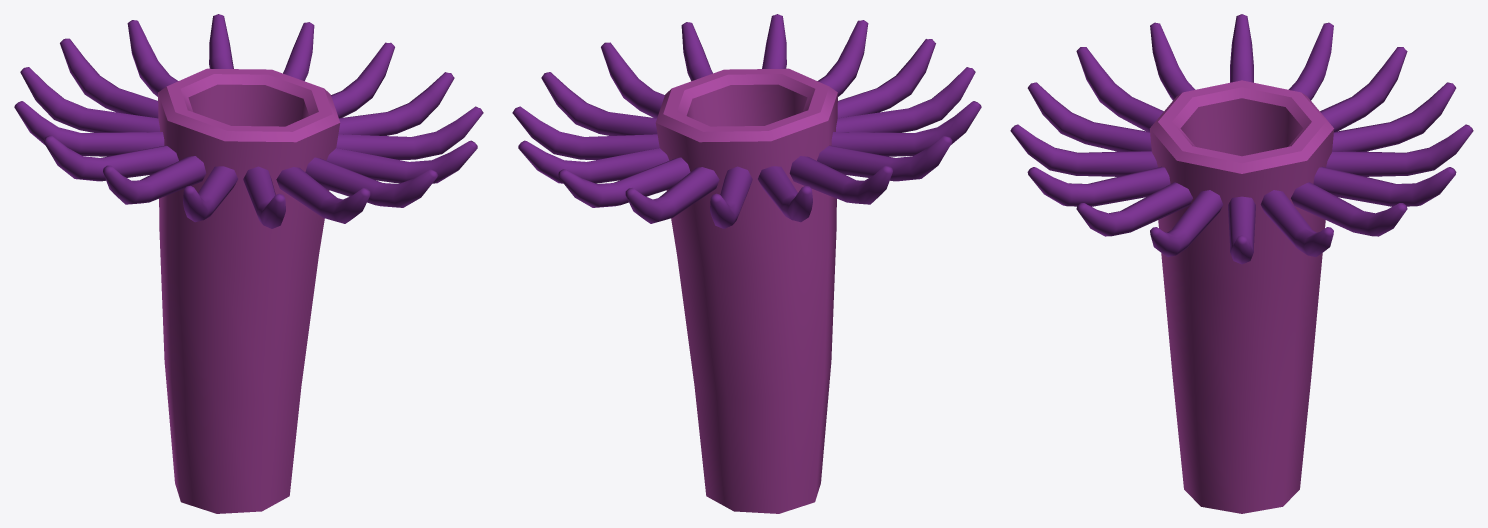
Rendered from Sea_plant_4_2.001.fbx.
The picture shows the model from 3 angles, left to right: view 1: azimuth 30°, elevation 25°; view 2: azimuth 150°, elevation 25°; view 3: azimuth 270°, elevation 25°; orthographic projection. The views are drawn at different scales.
Visible parts, largest first — view 1: Sea_plant_4_2.001; view 2: Sea_plant_4_2.001; view 3: Sea_plant_4_2.001.
Boxes of the visible parts, x1,y1,x2,y2 form: Sea_plant_4_2.001: (14, 14, 483, 513); Sea_plant_4_2.001: (512, 14, 981, 513); Sea_plant_4_2.001: (1010, 14, 1473, 513).
Bounding box in the file's own units: 0.81 × 0.7511 × 0.8126.
